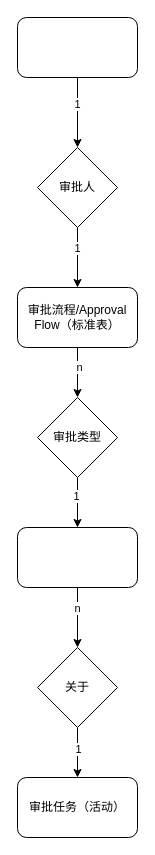
Image size: 155x855. Some labels were removed from this diagram. Here are the shapes that lost their labels. From the top down, the centre of each, then its label:
At [77,47]: "审批人/Approver（标准表）".
At [77,557]: "审批主实体（标准表）".
